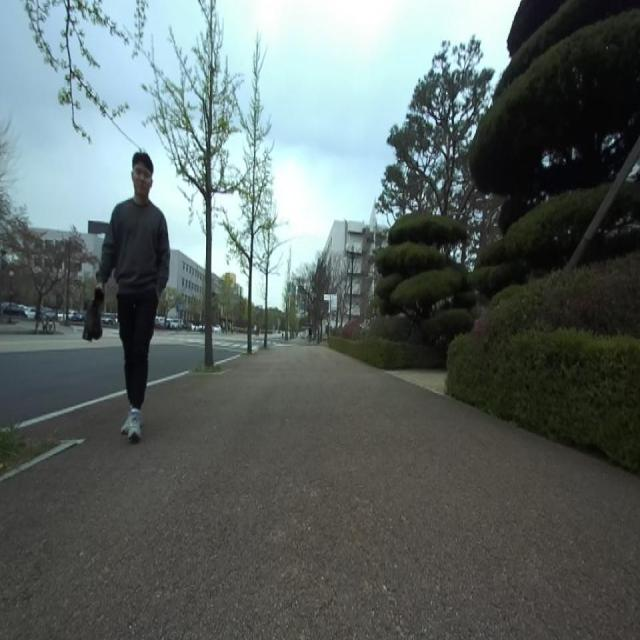sidewalk: (0, 340, 640, 639), (14, 390, 125, 429), (146, 370, 188, 387), (220, 355, 240, 363)
